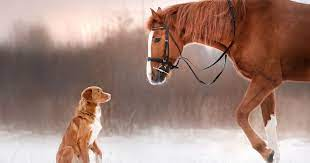Dog: (58, 76, 118, 160)
Horse: (141, 4, 310, 163)
